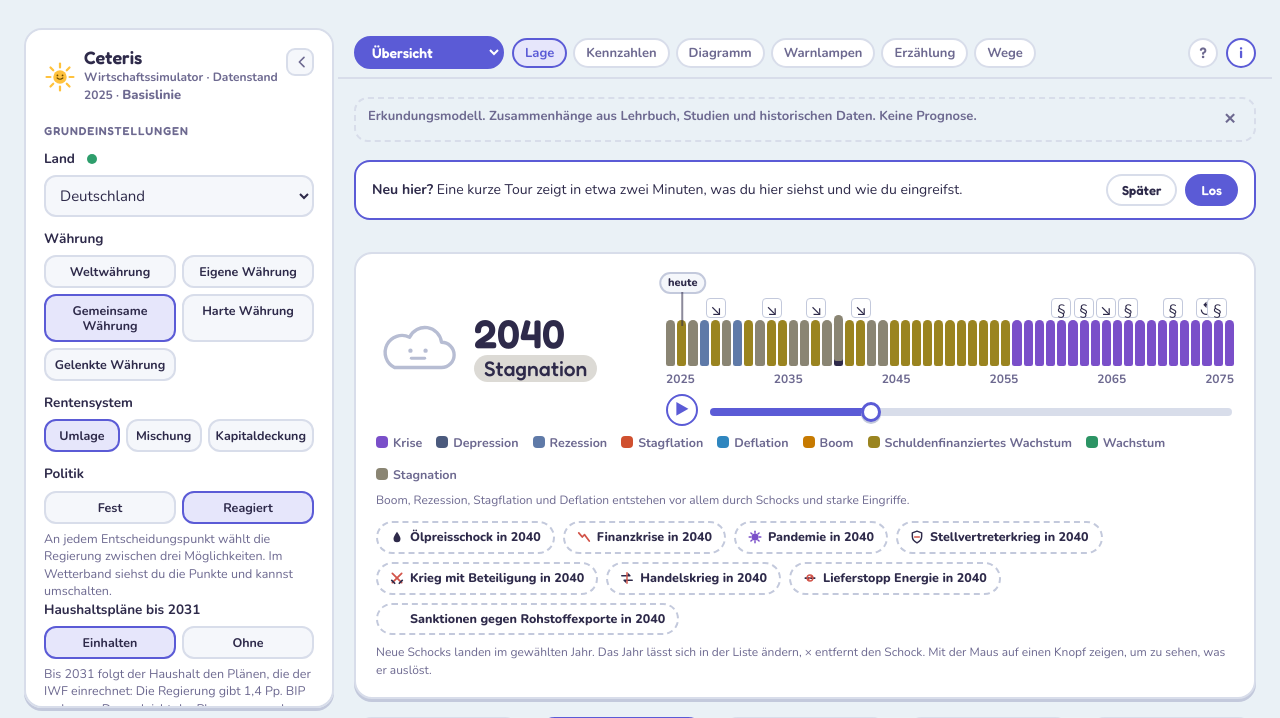
Länderwahl › Grenzfall: Rückblick zeigt bei USA einen Hinweis
Select "USA" in the dropdown labelled "Land" at (179, 196), box [44,175,314,217]
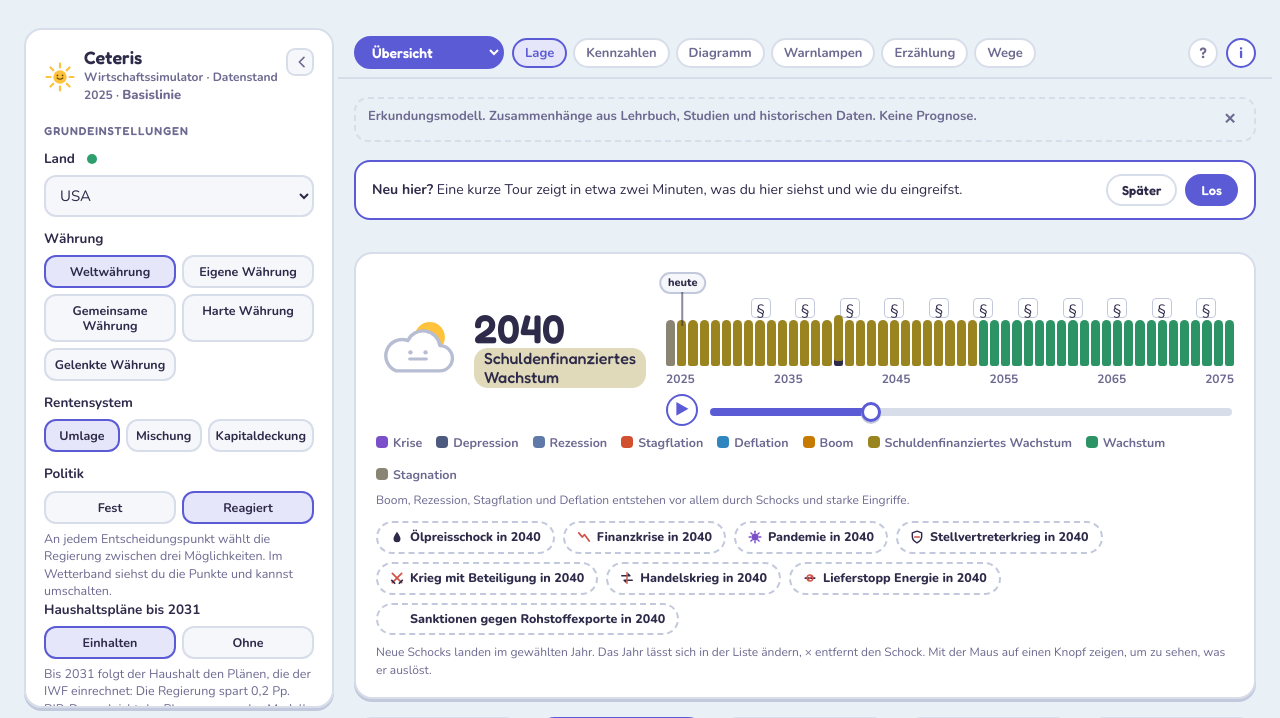
Select "Rückblick" in the dropdown named "Ansichten" at (429, 52), box [354,36,504,69]
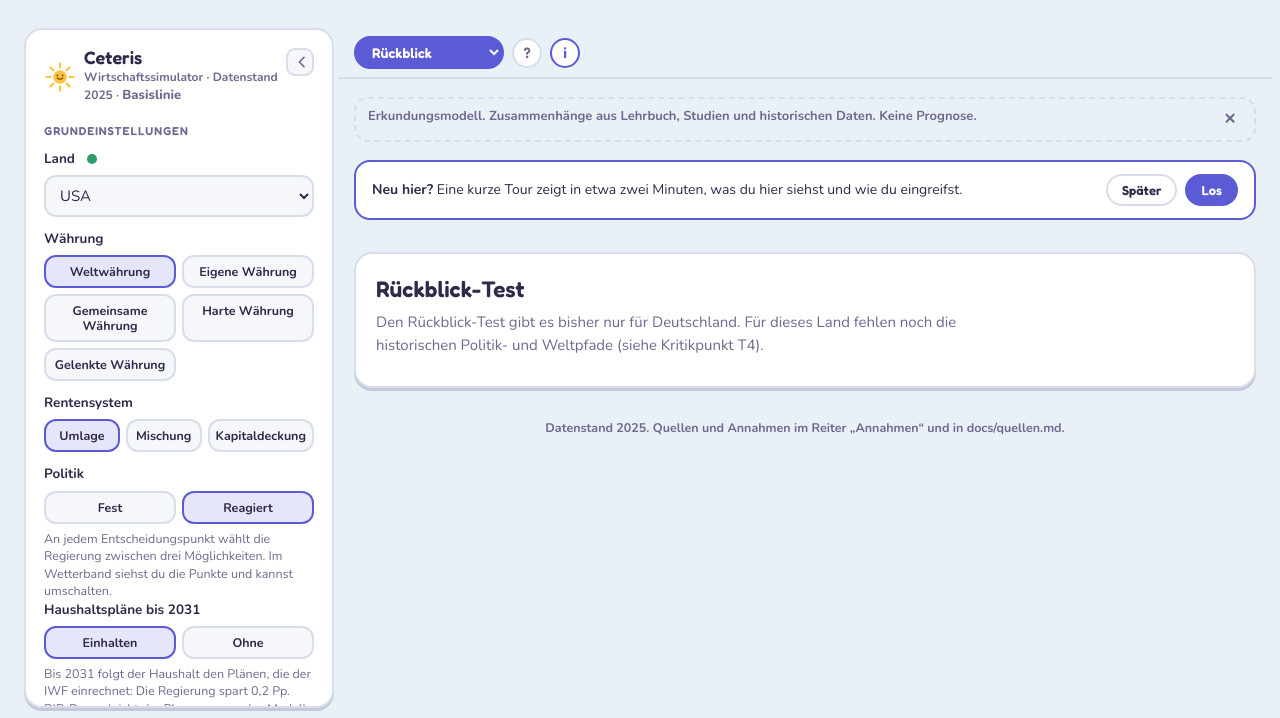
expect the text "Den Rückblick-Test gibt es bisher nur für Deutschland" is shown: met, box [376,312,956,355]
